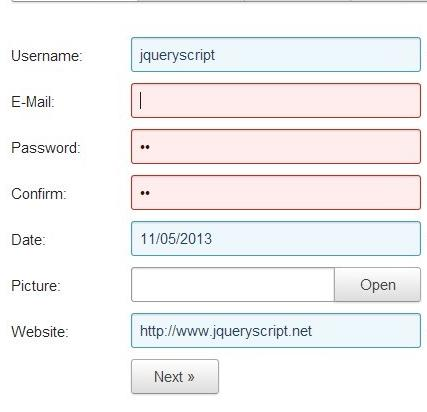button: (331, 265, 424, 304), (129, 358, 219, 394)
field: (127, 311, 420, 349), (130, 219, 420, 257), (128, 127, 422, 164), (128, 36, 421, 73), (129, 174, 420, 211), (127, 82, 421, 118), (129, 264, 336, 302)
field_with_label: (12, 309, 422, 351), (10, 218, 423, 259), (10, 125, 424, 165), (10, 80, 422, 120), (11, 172, 423, 212), (7, 35, 423, 74), (11, 263, 332, 305)
